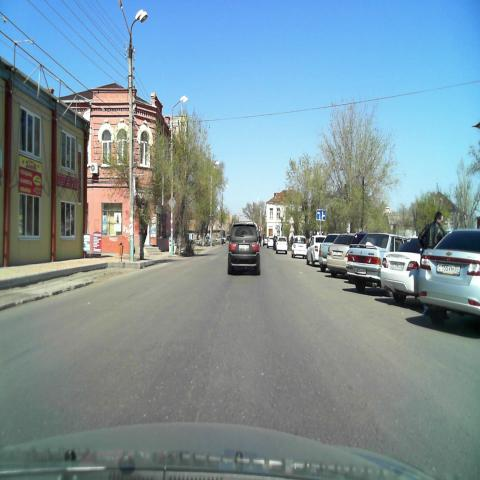5_15_2_2: (316, 209, 326, 221)
